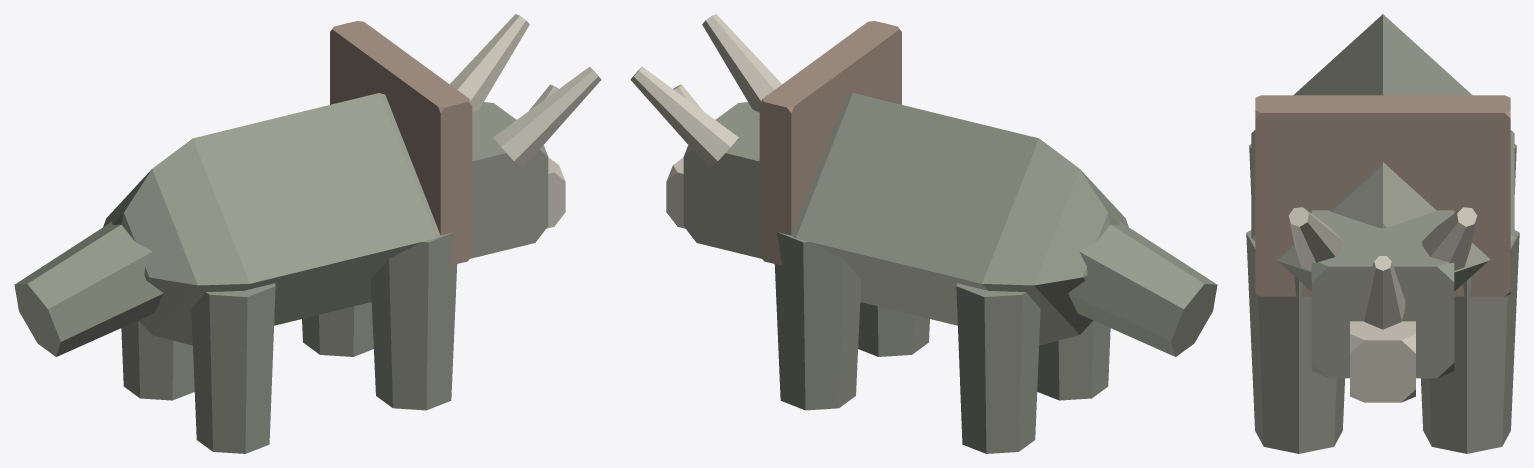
3 renders of one model, left to right at view 1: azimuth 30°, elevation 25°; view 2: azimuth 150°, elevation 25°; view 3: azimuth 270°, elevation 25°, orthographic. The views are drawn at different scales.
Parts seen in each view (by area): view 1: part0, part2, part9, part11, part7, part1, part10, part6, part8, part5, part3; view 2: part0, part2, part8, part10, part7, part1, part11, part5, part9, part6, part3; view 3: part2, part1, part0, part8, part9, part3, part4, part5, part6.
Part boxes in pixels (x1=…): part0: x1=103, y1=93, x2=440, y2=345; part2: x1=330, y1=21, x2=472, y2=265; part9: x1=370, y1=232, x2=457, y2=410; part11: x1=191, y1=283, x2=275, y2=453; part7: x1=14, y1=222, x2=163, y2=356; part1: x1=470, y1=102, x2=548, y2=258; part10: x1=121, y1=320, x2=194, y2=400; part6: x1=493, y1=66, x2=601, y2=168; part8: x1=302, y1=302, x2=373, y2=356; part5: x1=449, y1=14, x2=529, y2=112; part3: x1=546, y1=157, x2=565, y2=228; part0: x1=791, y1=93, x2=1128, y2=345; part2: x1=759, y1=21, x2=901, y2=265; part8: x1=774, y1=232, x2=861, y2=410; part10: x1=956, y1=283, x2=1040, y2=453; part7: x1=1068, y1=222, x2=1217, y2=356; part1: x1=683, y1=102, x2=761, y2=258; part11: x1=1037, y1=320, x2=1110, y2=400; part5: x1=630, y1=66, x2=738, y2=168; part9: x1=858, y1=302, x2=929, y2=356; part6: x1=702, y1=14, x2=782, y2=112; part3: x1=666, y1=157, x2=685, y2=228; part2: x1=1255, y1=95, x2=1510, y2=296; part1: x1=1311, y1=210, x2=1454, y2=378; part0: x1=1251, y1=14, x2=1514, y2=291; part8: x1=1421, y1=230, x2=1519, y2=453; part9: x1=1246, y1=230, x2=1344, y2=453; part3: x1=1350, y1=321, x2=1415, y2=402; part4: x1=1360, y1=256, x2=1405, y2=329; part5: x1=1422, y1=207, x2=1477, y2=270; part6: x1=1288, y1=207, x2=1343, y2=270.
Size of the model in its own units: 4.76 by 2.53 by 1.82.
